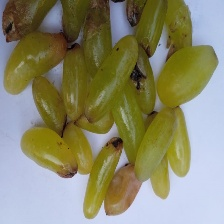grapes: (18, 31, 196, 195)
